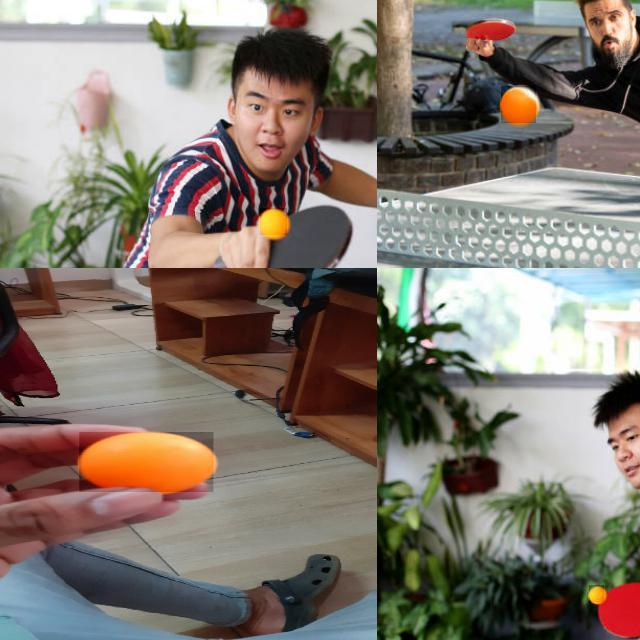ping-pong-ball: (79, 432, 215, 492), (501, 86, 537, 124), (260, 208, 288, 236), (588, 585, 606, 603)
